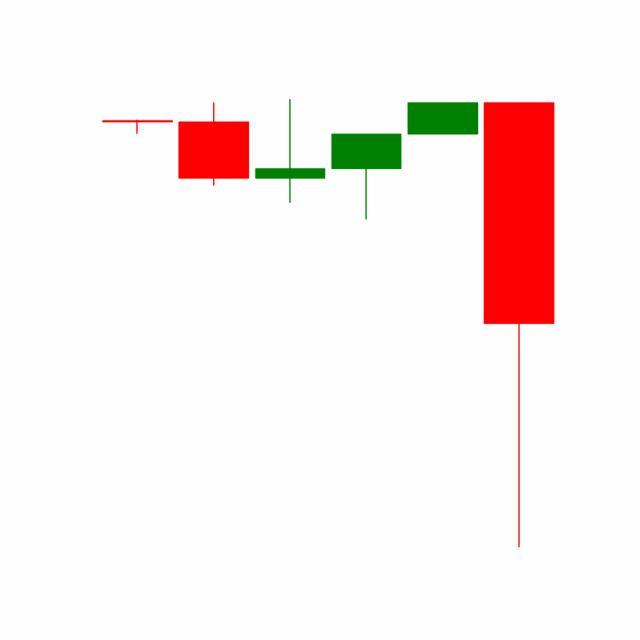Marubozu: (404, 102, 482, 135)
